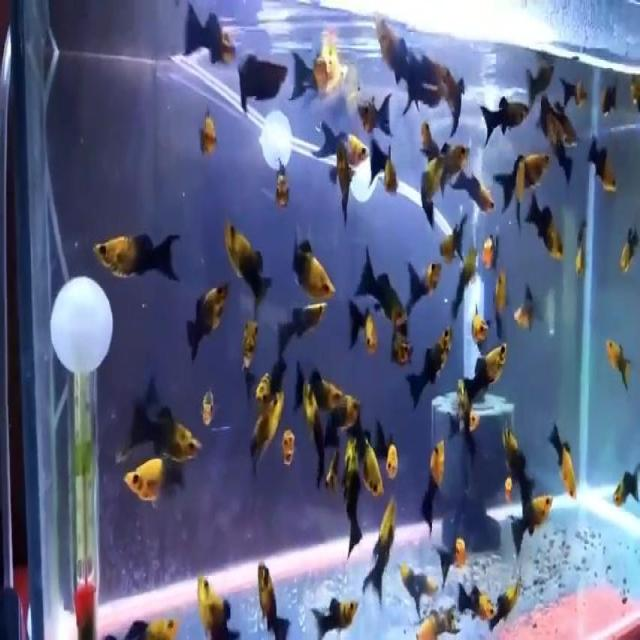PlatyFish: (87, 214, 184, 295), (125, 384, 206, 476), (355, 485, 404, 628), (221, 211, 280, 329), (115, 445, 189, 519), (285, 213, 337, 310), (489, 142, 551, 222), (505, 484, 559, 567), (459, 333, 512, 414), (471, 88, 537, 152), (306, 120, 372, 165)
